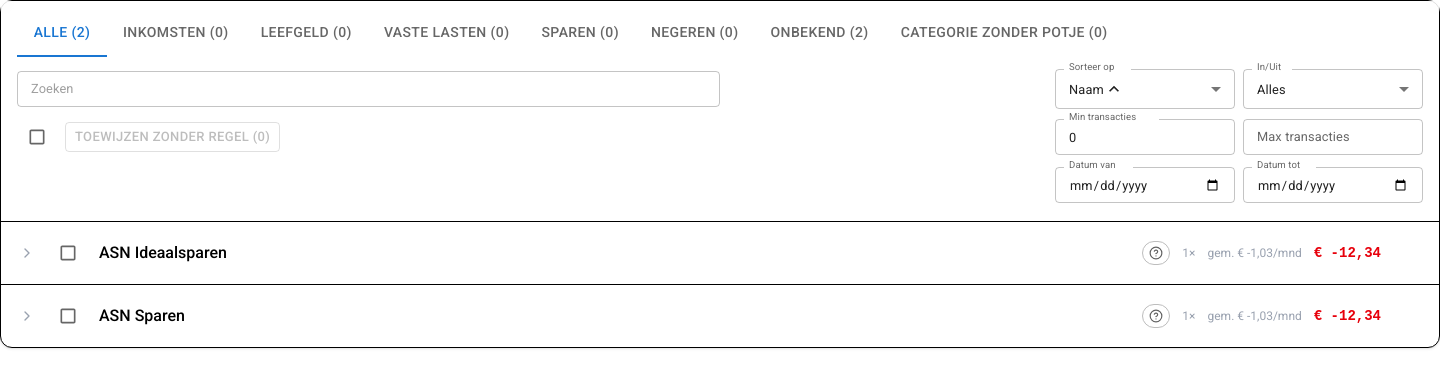
Scenario: CategoryBreakdown › shows search and one-time controls together
Click the checkbox named "alle zichtbare groepen" at (37, 137), box [27,127,47,147]
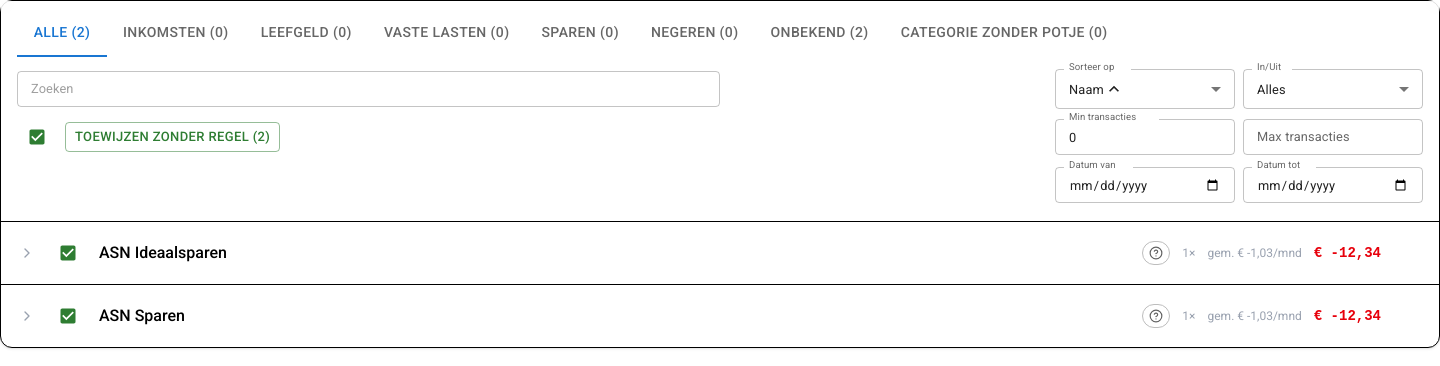
Expected: the field labelled "Zoeken" is shown, [17,71,720,107]
Expected: the button "Toewijzen zonder regel (2)" is enabled, [65,122,280,152]
